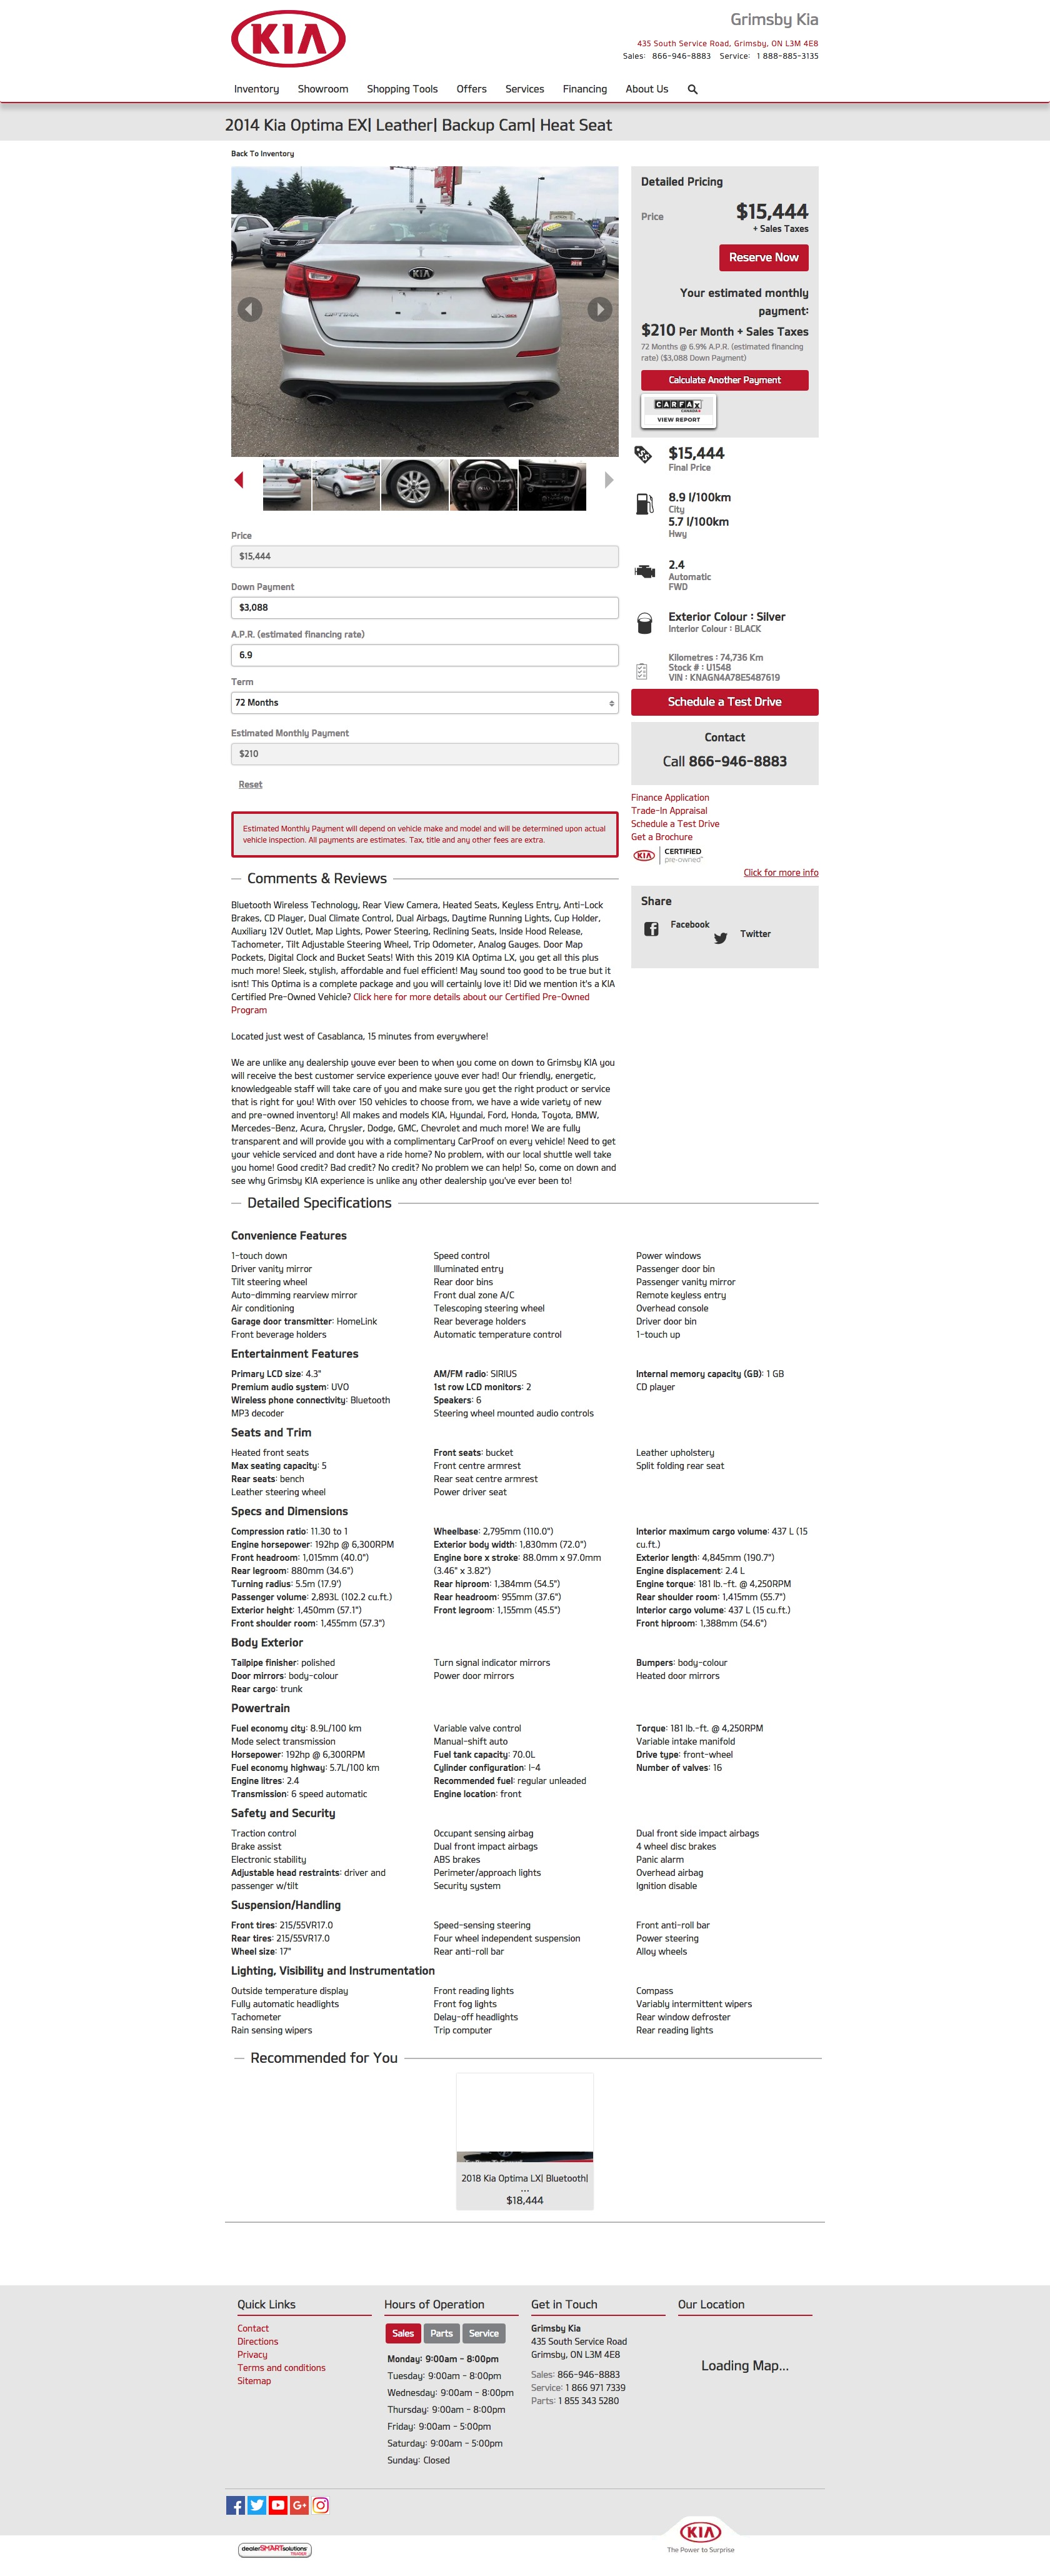car: (605, 471, 615, 490)
